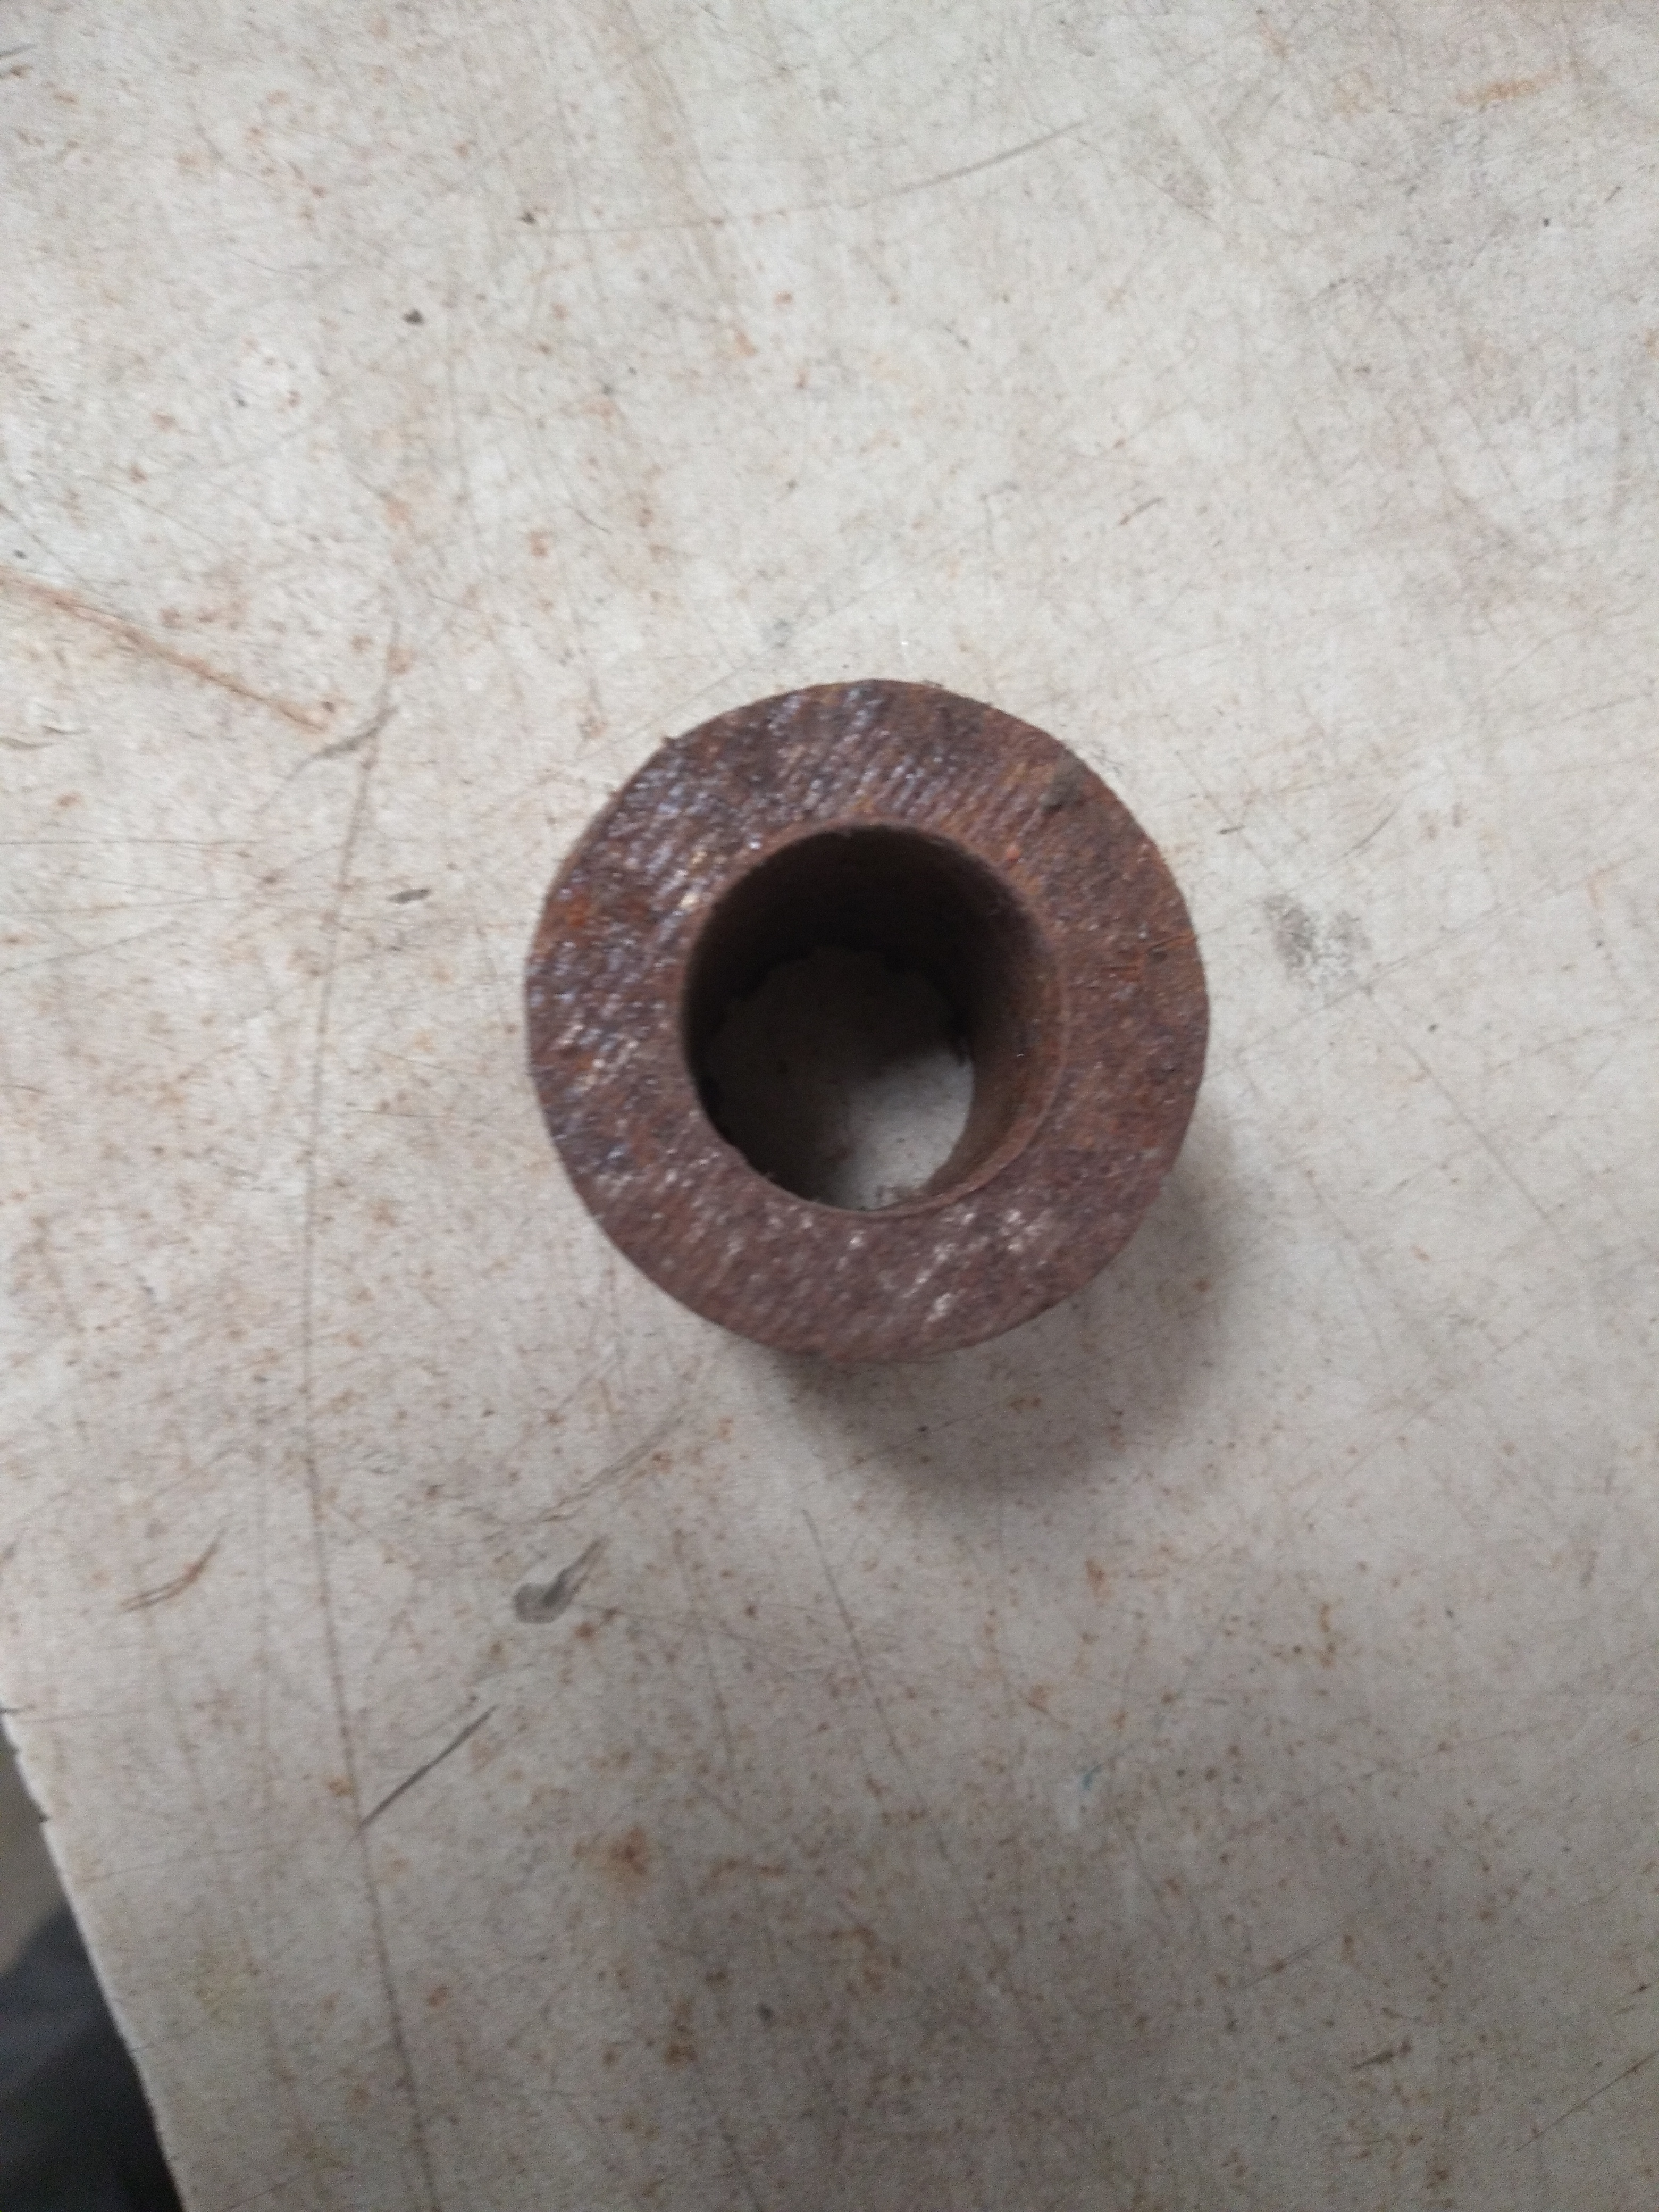No thread: (685, 770, 1075, 1277)
